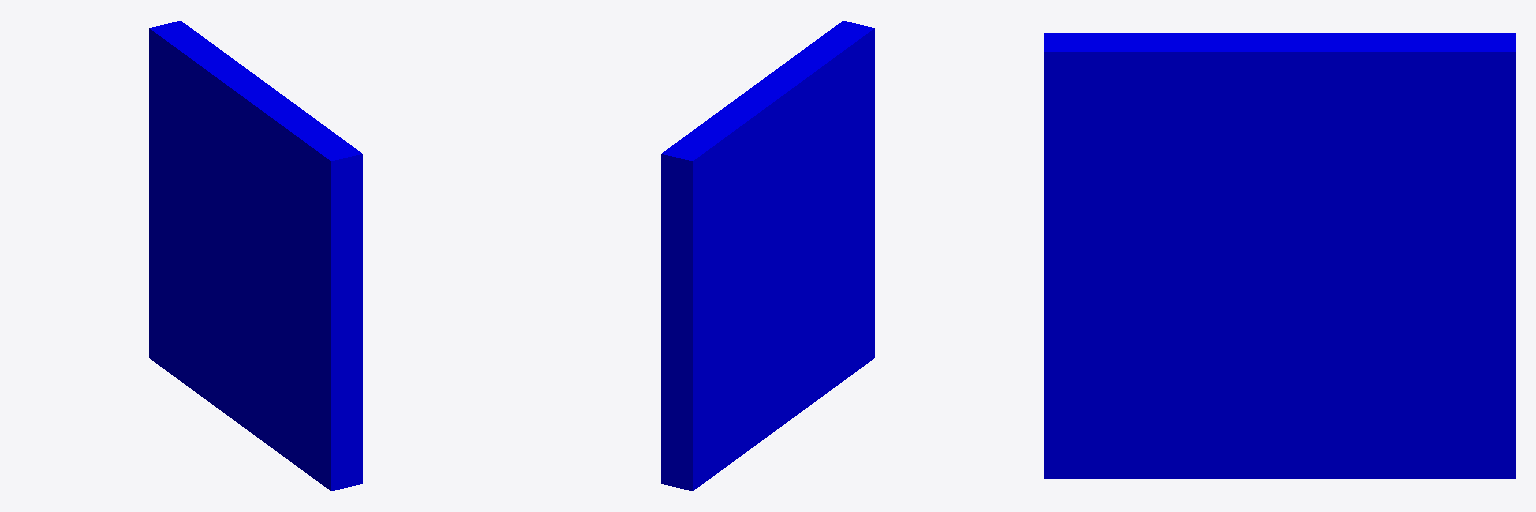
robot.urdf — obstacle:
<?xml version="1.0"?>
<robot name="obstacle">
  <link name="world"/>

  <joint name="fixed" type="fixed">
    <parent link="world"/>
    <child link="base_0"/>
    <origin xyz="0 1.1 0.5" rpy="0 0 0" />
  </joint>

  <link name="base_0">
    <visual>
      <origin xyz="0 0 0" rpy="0 0 0" />
      <geometry>
        <box size="0.1 1 1" />
      </geometry>
      <material name="blue">
        <color rgba="0 0 1 1" />
      </material>
    </visual>
    
    <collision>
      <origin xyz="0 0 0" rpy="0 0 0" />
      <geometry>
        <box size="0.1 1 1" />
      </geometry>
    </collision>
    
    <inertial>
      <mass value="1" />
      <inertia ixx= "1.0" ixy="0.0" ixz="0.0" iyy="1.0" iyz="0.0" izz="1.0"/>
    </inertial>
  </link>

  <gazebo reference="base_0">
    <material>Gazebo/Blue</material>
  </gazebo>

</robot>

--- What the picture shows (computed from the rendered views, not written in the file) ---
3 views of the same robot in one strip: view 1: azimuth 30°, elevation 25°; view 2: azimuth 150°, elevation 25°; view 3: azimuth 270°, elevation 25° (orthographic).
Model obstacle with 2 links and 1 joints (1 fixed), rooted at world, posed all joints at 0.
Links seen in each view (by area): view 1: base_0; view 2: base_0; view 3: base_0.
Boxes of the visible links, bbox=[...] form: base_0: bbox=[149, 21, 362, 490]; base_0: bbox=[661, 21, 874, 490]; base_0: bbox=[1044, 33, 1515, 478].
Bounding box of the posed robot: 0.1 × 1 × 1 m (x, y, z).
Geometry: primitives only (box / cylinder / sphere), no mesh files.